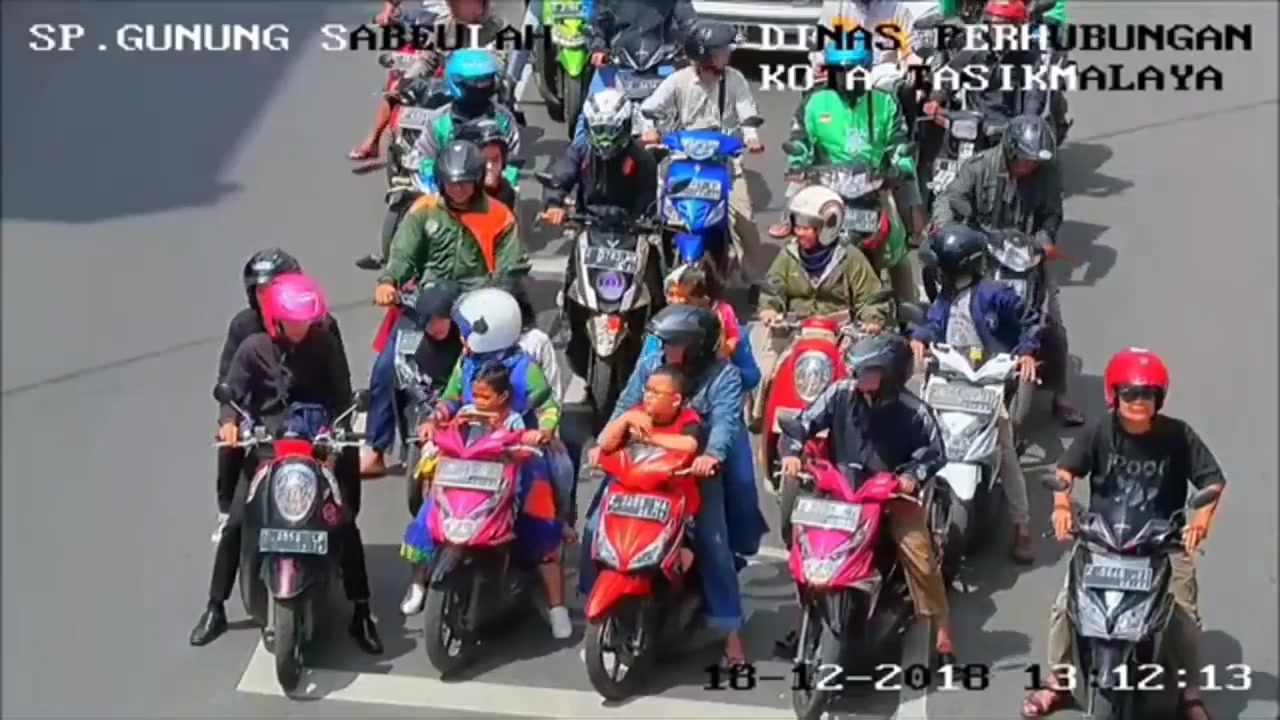person without helm: (635, 365, 691, 453), (459, 361, 513, 431)
